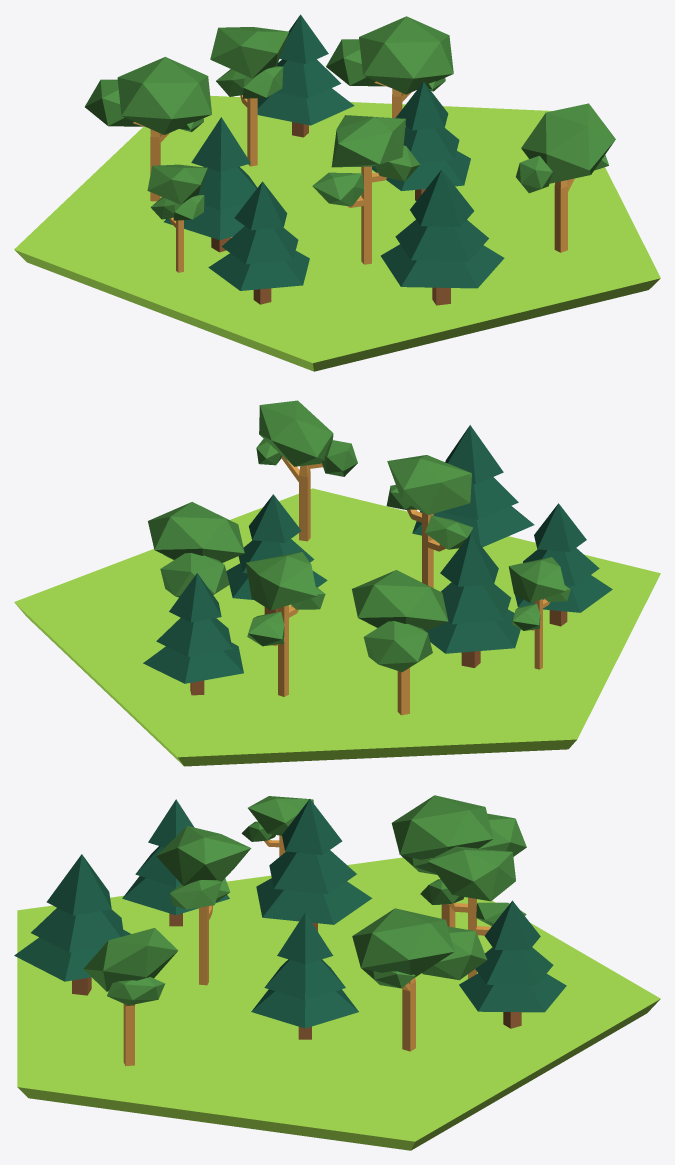
The model's file is TuileForestMix3.fbx.
3 views of the same model, one above another, from view 1: azimuth 30°, elevation 25°; view 2: azimuth 150°, elevation 25°; view 3: azimuth 270°, elevation 25° (orthographic). The views are drawn at different scales.
Visible parts, largest first — view 1: origine.002; view 2: origine.002; view 3: origine.002.
Part boxes in pixels (<box>): origine.002: <box>14,14,660,371</box>; origine.002: <box>14,400,660,766</box>; origine.002: <box>14,795,660,1150</box>.
Bounding box in the file's own units: 111 × 29.62 × 106.
